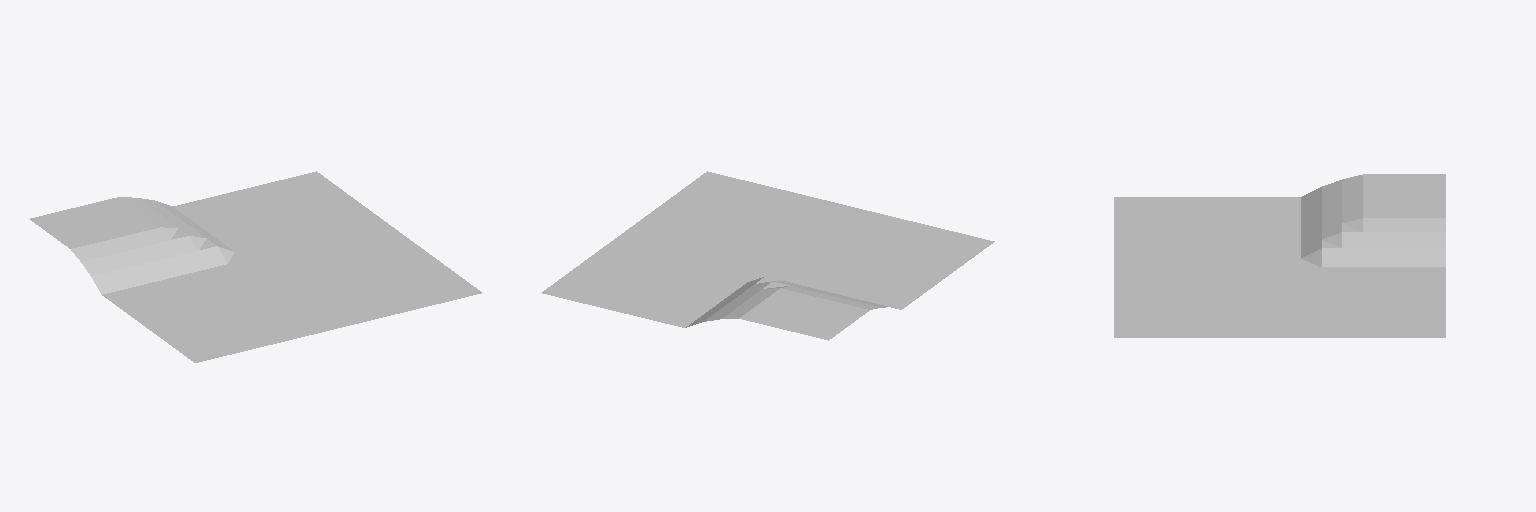
Rendered from test_terrain.obj.
3 renders of one model, left to right at view 1: azimuth 30°, elevation 25°; view 2: azimuth 150°, elevation 25°; view 3: azimuth 270°, elevation 25°, orthographic.
Visible parts, largest first — view 1: mesh01; view 2: mesh01; view 3: mesh01.
Boxes of the visible parts, box(x1,y1,x2,y2) form: mesh01: box(30, 171, 481, 362); mesh01: box(542, 171, 994, 340); mesh01: box(1114, 174, 1445, 337).
Size of the model in its own units: 167 by 12.58 by 167.